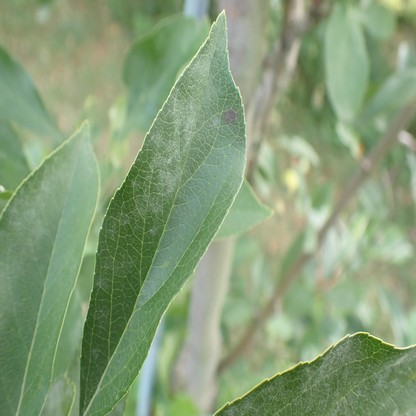powder: (95, 27, 211, 286), (1, 120, 89, 321), (224, 337, 416, 416), (48, 377, 73, 416)
